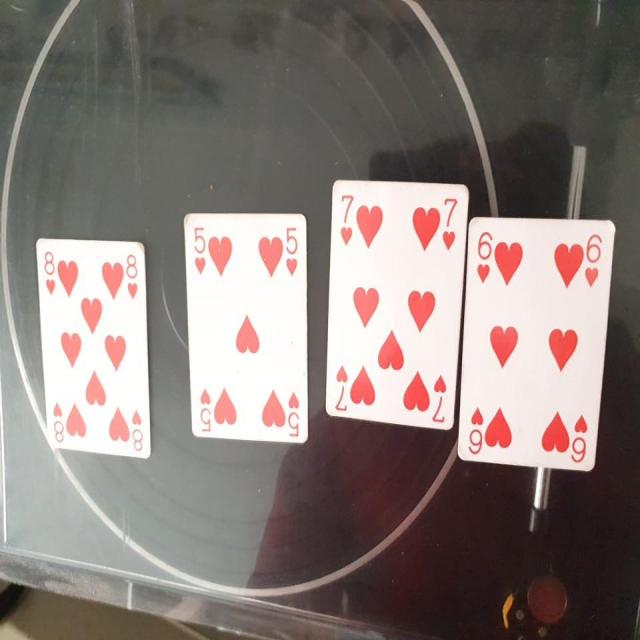5 Hearts: (174, 202, 311, 452)
6 Hearts: (448, 210, 622, 476)
7 Hearts: (325, 172, 470, 430)
8 Hearts: (30, 230, 156, 467)
